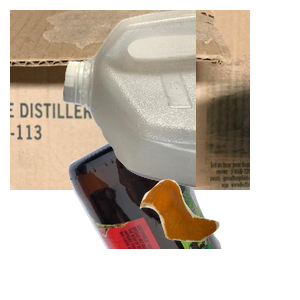cardboard: (10, 10, 250, 190)
glass: (66, 120, 300, 300)
plastic: (60, 10, 300, 190)
trash: (137, 177, 300, 300)
